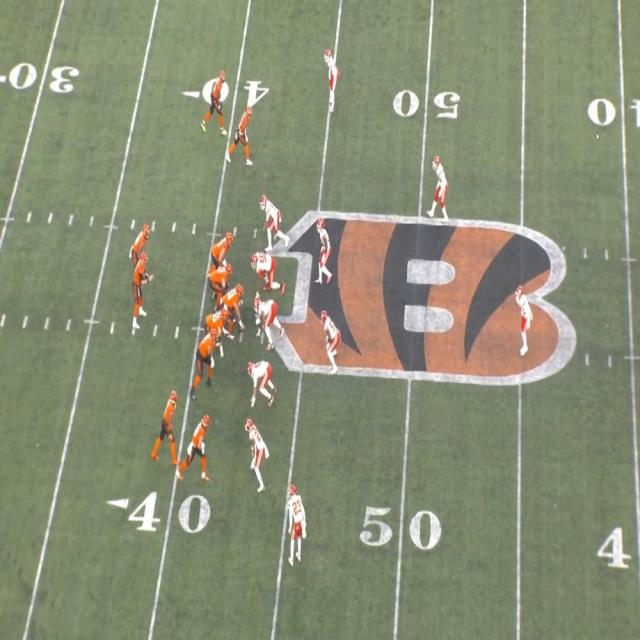center: (225, 286, 249, 326)
db: (244, 419, 269, 489), (285, 484, 306, 558), (517, 292, 536, 358), (321, 48, 339, 107), (432, 155, 449, 215)
lb: (314, 220, 333, 284), (319, 310, 340, 364)
qb: (132, 259, 152, 325)
skill: (187, 414, 212, 481), (203, 74, 232, 129), (159, 387, 180, 452), (232, 110, 254, 166), (132, 224, 150, 256)
